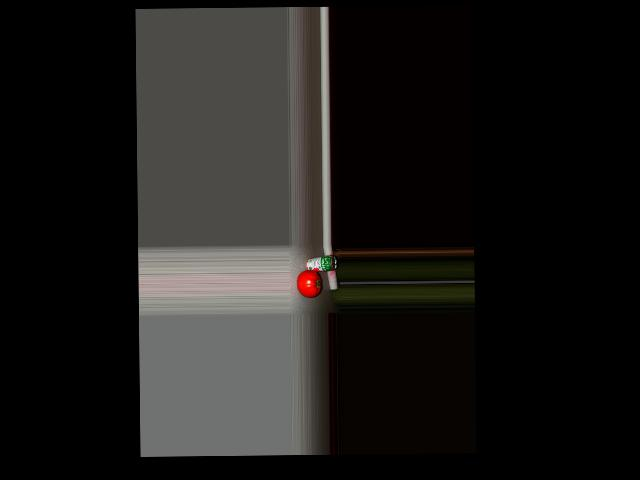tomato: (296, 270, 320, 298)
